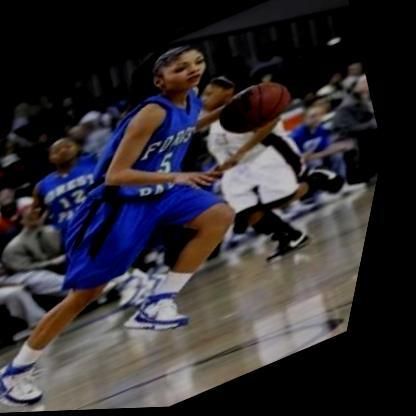basketball: (214, 72, 307, 145)
